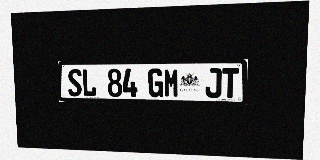4: (122, 68, 137, 97)
8: (107, 69, 122, 97)
G: (148, 68, 163, 97)
J: (205, 68, 222, 98)
L: (82, 69, 96, 97)
M: (164, 68, 179, 97)
S: (67, 69, 82, 96)
T: (222, 68, 239, 98)
